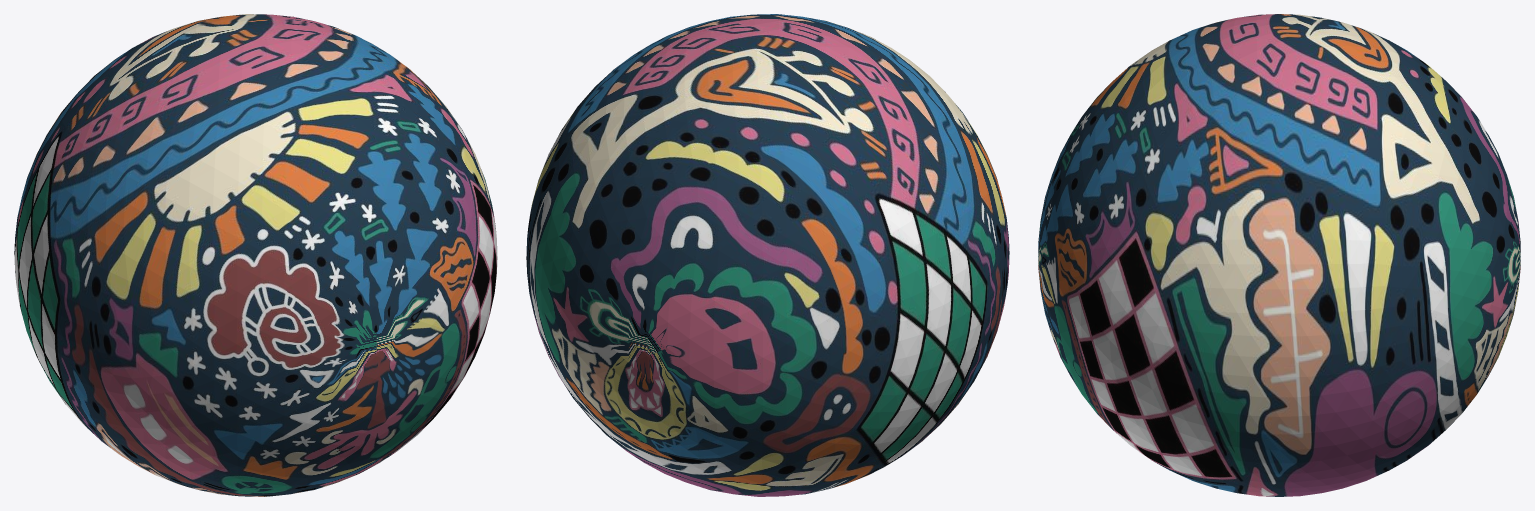
The picture shows the model from 3 angles, left to right: view 1: azimuth 30°, elevation 25°; view 2: azimuth 150°, elevation 25°; view 3: azimuth 270°, elevation 25°; orthographic projection.
Visible parts, largest first — view 1: FMO; view 2: FMO; view 3: FMO.
Part boxes in pixels (bbox=[...]): FMO: bbox=[14, 14, 497, 496]; FMO: bbox=[526, 14, 1009, 496]; FMO: bbox=[1038, 14, 1520, 496].
Size of the model in its own units: 2 by 2 by 2.
1 material, 1 textured.
